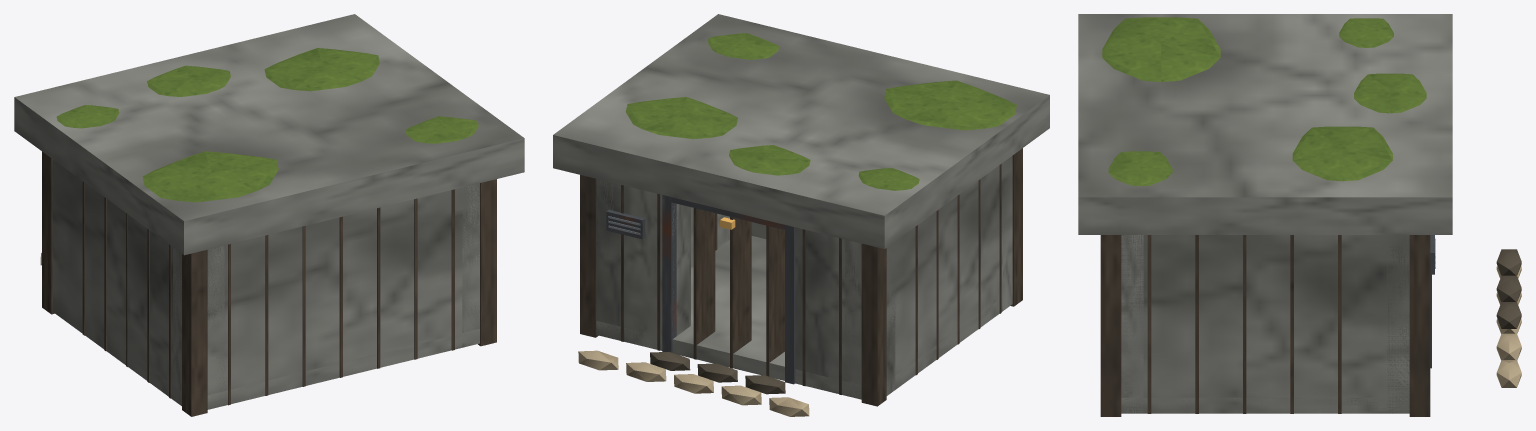
The model's file is SM_POI_Bunker_LOD1.fbx.
The picture shows the model from 3 angles, left to right: view 1: azimuth 30°, elevation 25°; view 2: azimuth 150°, elevation 25°; view 3: azimuth 270°, elevation 25°; orthographic projection. The views are drawn at different scales.
Visible parts, largest first — view 1: SM_POI_Bunker_LOD1; view 2: SM_POI_Bunker_LOD1; view 3: SM_POI_Bunker_LOD1.
Part boxes in pixels (x1,y1,x2,y2): SM_POI_Bunker_LOD1: (14,14,524,416); SM_POI_Bunker_LOD1: (553,14,1049,416); SM_POI_Bunker_LOD1: (1078,14,1521,416).
Size of the model in its own units: 14.6 by 8.68 by 14.92.
Materials: 1 (1 with a texture image).
